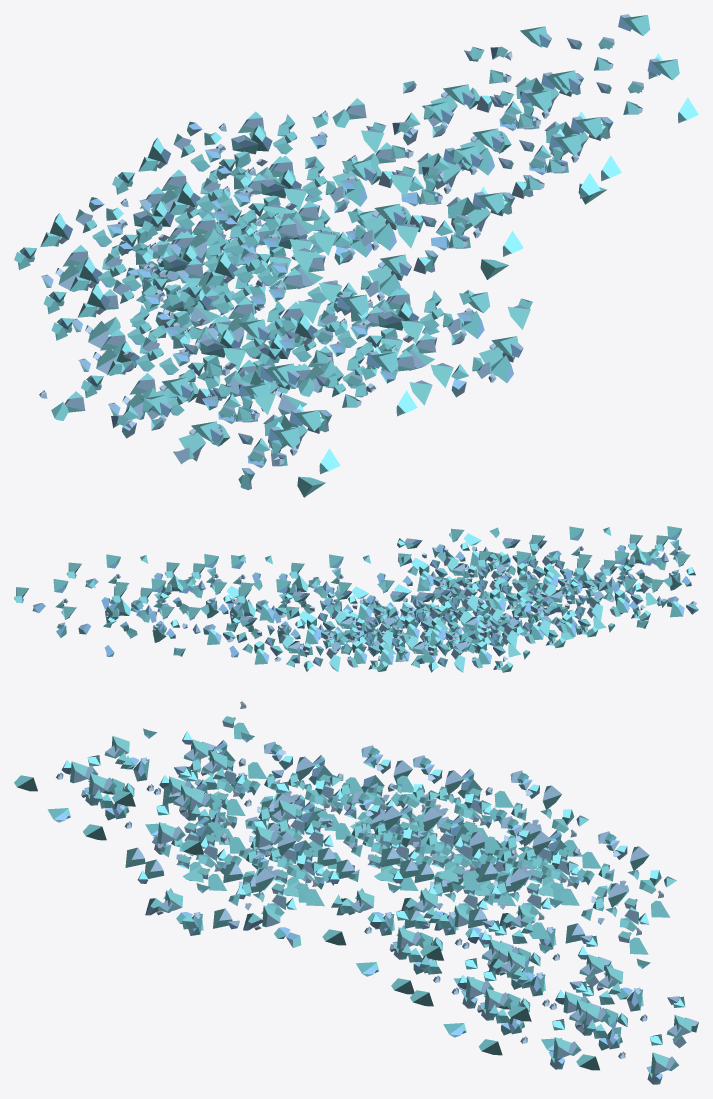
Rendered from ubing_final.obj.
3 renders of one model, top to bottom at view 1: azimuth 30°, elevation 25°; view 2: azimuth 150°, elevation 25°; view 3: azimuth 270°, elevation 25°, orthographic. The views are drawn at different scales.
Bounding box in the file's own units: 184 × 19.31 × 149.
